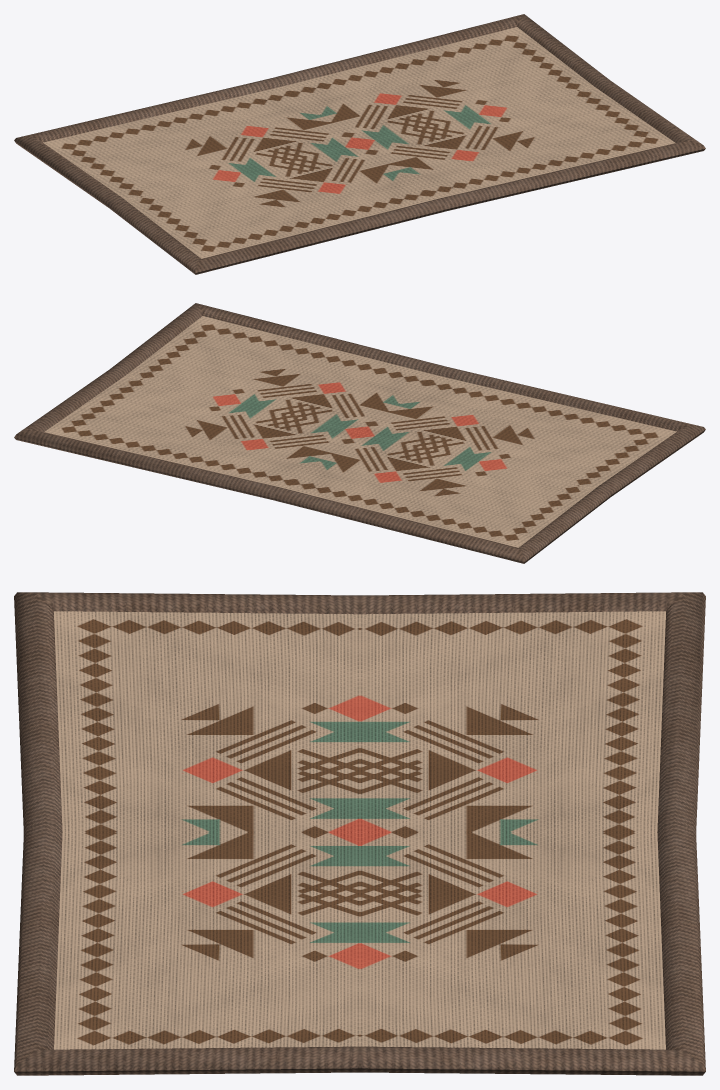
The model's file is AIR0110011.fbx.
The picture shows the model from 3 angles, top to bottom: view 1: azimuth 30°, elevation 25°; view 2: azimuth 150°, elevation 25°; view 3: azimuth 270°, elevation 25°; orthographic projection. The views are drawn at different scales.
Parts seen in each view (by area): view 1: smAIR0110011; view 2: smAIR0110011; view 3: smAIR0110011.
Boxes of the visible parts, bbox=[...] form: smAIR0110011: bbox=[14, 14, 705, 274]; smAIR0110011: bbox=[14, 303, 705, 563]; smAIR0110011: bbox=[14, 592, 705, 1075].
Size of the model in its own units: 219 by 4.91 by 135.
1 material, 1 textured.
